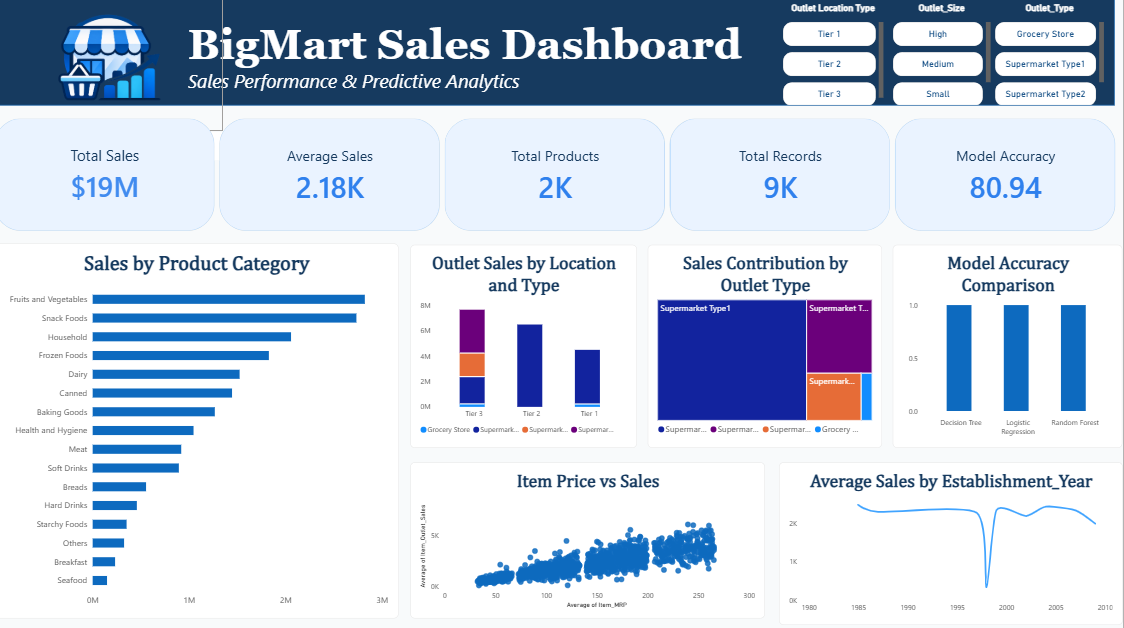

This screenshot's page, from the dashboard's own definition file:
{"tool":"powerbi","page":{"name":"Page 1","canvas":[1920,1080],"ordinal":0},"visuals":[{"type":"shape","box":[0,0,1905.7,186],"z":0},{"type":"textbox","box":[329.6,39.9,1339.6,146.2],"z":1000},{"type":"image","box":[0,0,388,228.6],"z":2000},{"type":"cardVisual","fields":{"Data":["bigmart_Cleaned.Total Sales","bigmart_Cleaned.Average Sales","bigmart_Cleaned.Total Products","bigmart_Cleaned.Total Records","bigmart_Cleaned.Model Accuracy"]},"box":[0,207.3,1908.3,191.4],"z":3000},{"type":"clusteredBarChart","title":"Sales by Product Category","fields":{"Category":["bigmart_Cleaned.Item_Type"],"Y":["bigmart_Cleaned.Total Sales"]},"box":[0,419.9,688.4,637.9],"z":4000},{"type":"columnChart","title":"Outlet Sales by Location and Type","fields":{"Category":["bigmart_Cleaned.Outlet_Location_Type"],"Series":["bigmart_Cleaned.Outlet_Type"],"Y":["bigmart_Cleaned.Total Sales"]},"box":[707,422.6,385.4,345.5],"z":5000},{"type":"treemap","title":"Sales Contribution by Outlet Type","fields":{"Group":["bigmart_Cleaned.Outlet_Type"],"Values":["bigmart_Cleaned.Total Sales"]},"box":[1111,422.6,398.7,345.5],"z":6000},{"type":"lineChart","title":"Average Sales by Establishment_Year","fields":{"Category":["bigmart_Cleaned.Outlet_Establishment_Year"],"Y":["bigmart_Cleaned.Average Sales"]},"box":[1334.2,792,584.7,276.4],"z":7000},{"type":"scatterChart","title":"Item Price vs Sales","fields":{"Category":["bigmart_Cleaned.Item_Identifier"],"X":["Avg(bigmart_Cleaned.Item_MRP)"],"Y":["Avg(bigmart_Cleaned.Item_Outlet_Sales)"]},"box":[707,792,603.3,265.8],"z":8000},{"type":"clusteredColumnChart","title":"Model Accuracy Comparison","fields":{"Category":["Model_Comparison.Model"],"Y":["CountNonNull(Model_Comparison.Accuracy)"]},"box":[1528.3,422.6,390.7,345.5],"z":9000},{"type":"advancedSlicerVisual","fields":{"Values":["bigmart_Cleaned.Outlet_Type"]},"box":[1703.3,11.7,185,175],"z":10000},{"type":"advancedSlicerVisual","fields":{"Values":["bigmart_Cleaned.Outlet_Size"]},"box":[1528.5,10.6,166.7,175],"z":11000},{"type":"advancedSlicerVisual","title":"Outlet Location Type","fields":{"Values":["bigmart_Cleaned.Outlet_Location_Type"]},"box":[1341.4,10.6,171.7,175],"z":12000}]}

Visuals, with their boxes in screenshot pixels (x1, y1, x2, y2), scaled from the page's 1920x1080 canvas onto the 1124x628 screenshot:
shape: crop(0, 0, 1116, 108)
textbox: crop(193, 23, 977, 108)
image: crop(0, 0, 227, 133)
cardVisual - bigmart_Cleaned.Total Sales x bigmart_Cleaned.Average Sales: crop(0, 121, 1117, 232)
"Sales by Product Category" clusteredBarChart: crop(0, 244, 403, 615)
"Outlet Sales by Location and Type" columnChart: crop(414, 246, 640, 447)
"Sales Contribution by Outlet Type" treemap: crop(650, 246, 884, 447)
"Average Sales by Establishment_Year" lineChart: crop(781, 461, 1123, 621)
"Item Price vs Sales" scatterChart: crop(414, 461, 767, 615)
"Model Accuracy Comparison" clusteredColumnChart: crop(895, 246, 1123, 447)
advancedSlicerVisual - bigmart_Cleaned.Outlet_Type: crop(997, 7, 1105, 109)
advancedSlicerVisual - bigmart_Cleaned.Outlet_Size: crop(895, 6, 992, 108)
"Outlet Location Type" advancedSlicerVisual: crop(785, 6, 886, 108)
